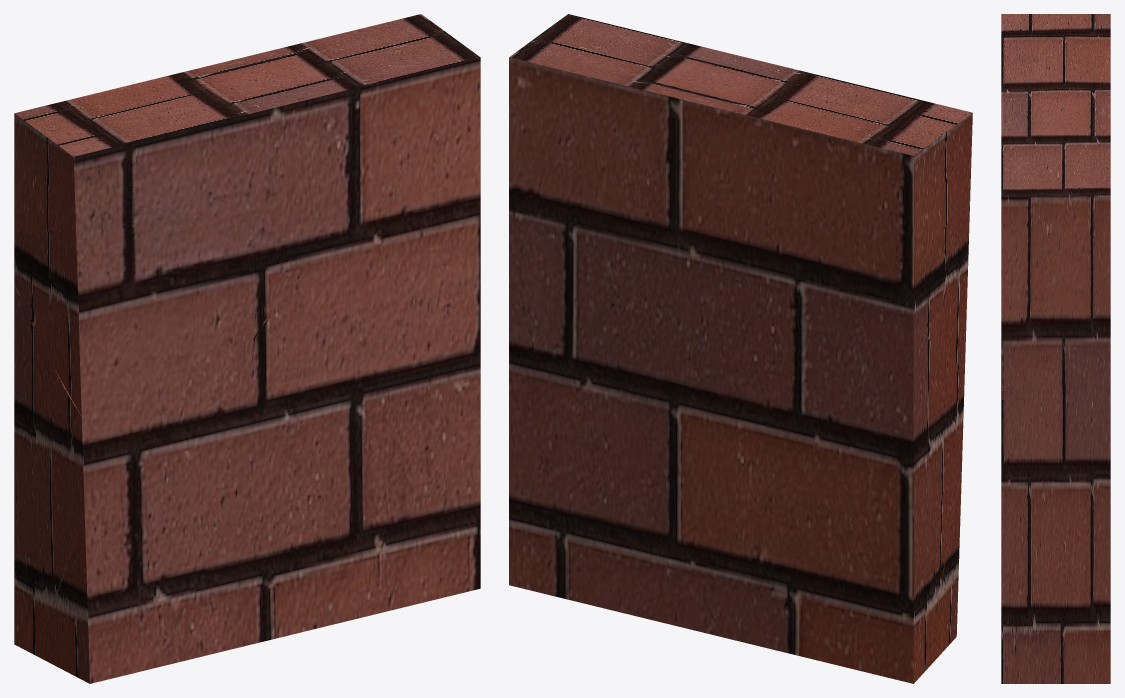
File: wall.fbx
3 views of the same model, side by side, from view 1: azimuth 30°, elevation 25°; view 2: azimuth 150°, elevation 25°; view 3: azimuth 270°, elevation 25° (orthographic). The views are drawn at different scales.
Parts seen in each view (by area): view 1: Cube_cell.002, Cube, Cube_cell, Cube_cell.006, Cube_cell.005, Cube_cell.003, Cube_cell.004; view 2: Cube, Cube_cell, Cube_cell.004, Cube_cell.005, Cube_cell.003, Cube_cell.006; view 3: Cube_cell, Cube, Cube_cell.002, Cube_cell.001.
Part boxes in pixels (x1,y1,x2,y2): Cube_cell.002: (222, 280, 480, 651); Cube: (14, 57, 480, 655); Cube_cell: (197, 14, 480, 280); Cube_cell.006: (35, 339, 253, 683); Cube_cell.005: (14, 220, 289, 415); Cube_cell.003: (14, 107, 276, 233); Cube_cell.004: (14, 286, 162, 654); Cube: (509, 50, 972, 683); Cube_cell: (509, 14, 769, 307); Cube_cell.004: (850, 310, 964, 670); Cube_cell.005: (776, 186, 970, 370); Cube_cell.003: (733, 112, 970, 275); Cube_cell.006: (926, 470, 961, 669); Cube_cell: (1001, 96, 1110, 399); Cube: (1001, 14, 1110, 619); Cube_cell.002: (1001, 401, 1110, 683); Cube_cell.001: (1004, 373, 1110, 616).
Size of the model in its own units: 0.8048 by 1 by 0.2037.
Materials: 1 (1 with a texture image).
